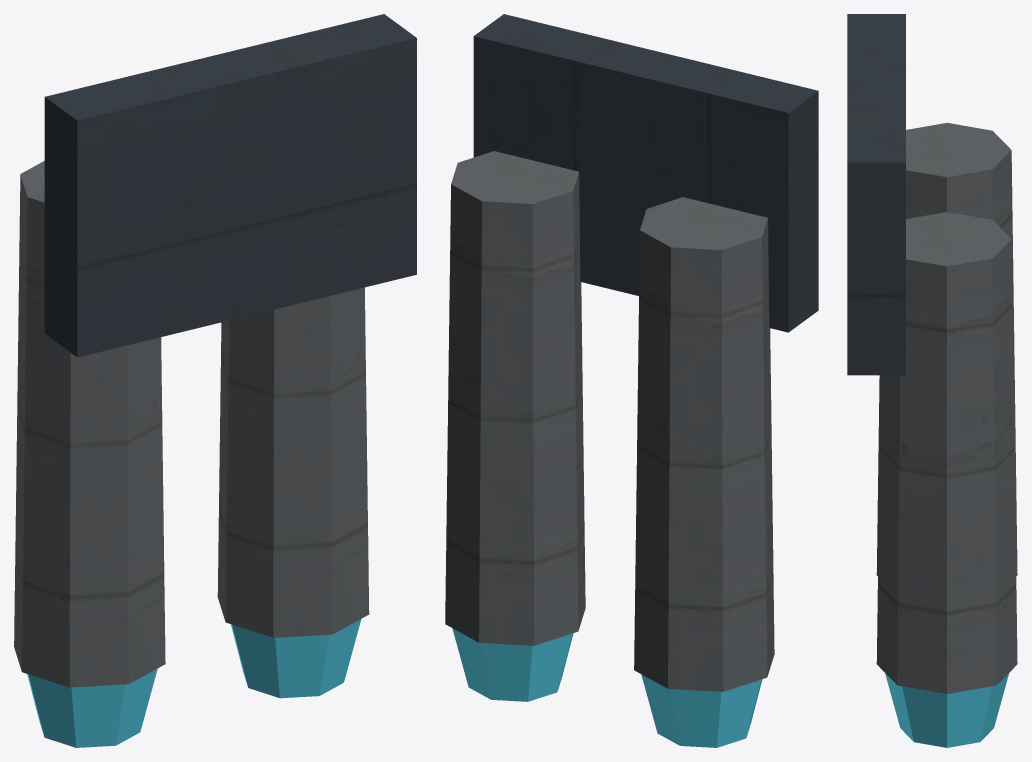
The model's file is acc_jetpack_small.glb.
3 renders of one model, left to right at view 1: azimuth 30°, elevation 25°; view 2: azimuth 150°, elevation 25°; view 3: azimuth 270°, elevation 25°, orthographic. The views are drawn at different scales.
Parts seen in each view (by area): view 1: acc_jetpack_small; view 2: acc_jetpack_small; view 3: acc_jetpack_small.
Boxes of the visible parts, left/top/right/bottom form: acc_jetpack_small: left=14, top=14, right=416, bottom=747; acc_jetpack_small: left=445, top=14, right=818, bottom=747; acc_jetpack_small: left=847, top=14, right=1017, bottom=747.
Size of the model in its own units: 0.3 by 0.56 by 0.145.
3 materials, 3 textured.
